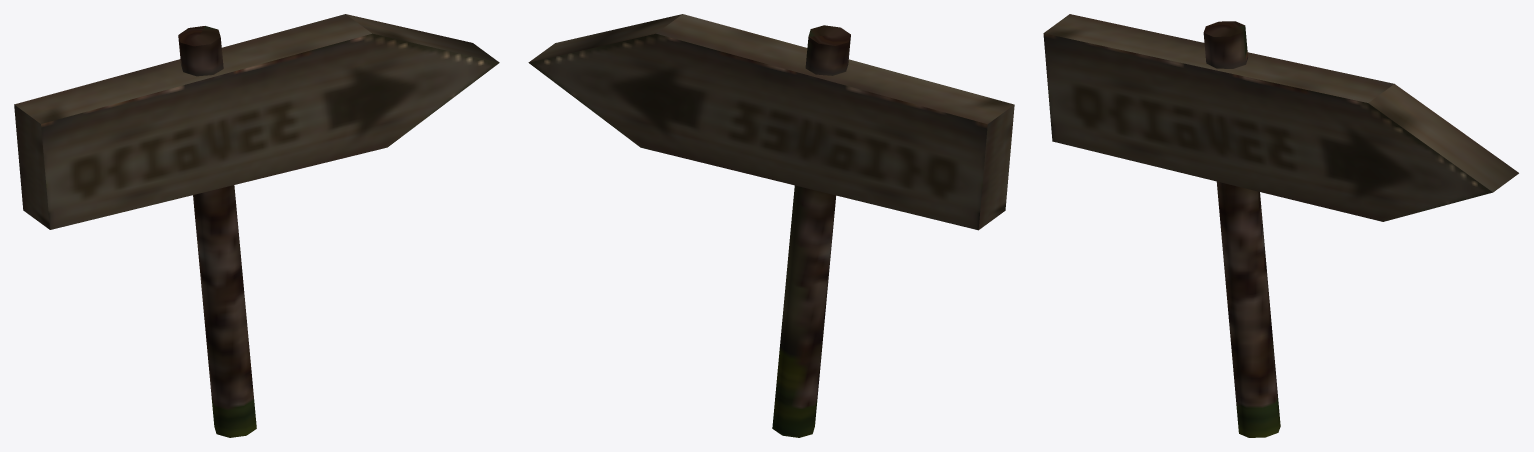
Rendered from Sign.FBX.
The picture shows the model from 3 angles, left to right: view 1: azimuth 30°, elevation 25°; view 2: azimuth 150°, elevation 25°; view 3: azimuth 330°, elevation 25°; orthographic projection. The views are drawn at different scales.
Visible parts, largest first — view 1: Box001, Cylinder001; view 2: Box001, Cylinder001; view 3: Box001, Cylinder001.
Boxes of the visible parts, x1,y1,x2,y2 form: Box001: (14,14,499,229); Cylinder001: (178,26,256,437); Box001: (528,14,1014,230); Cylinder001: (772,25,850,437); Box001: (1043,14,1518,221); Cylinder001: (1203,21,1280,437).
Bounding box in the file's own units: 22.8 × 19.19 × 2.31.
Materials: 2 (2 with a texture image).
